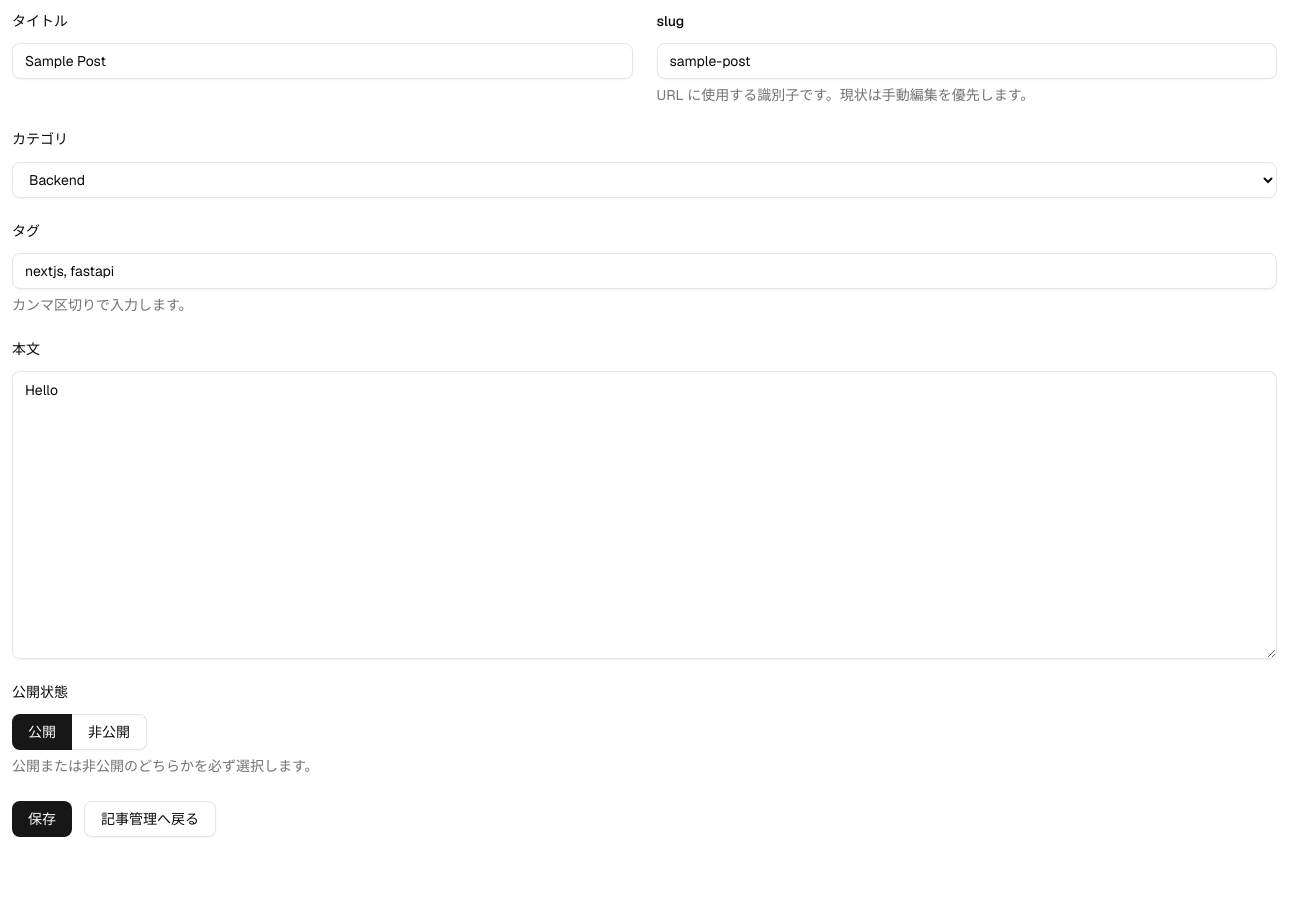
Test: ArticleEditorForm › 空の slug を送信しようとすると slug のエラーを表示する
Clear the field labelled "slug" at (967, 61), box [656,43,1277,79]
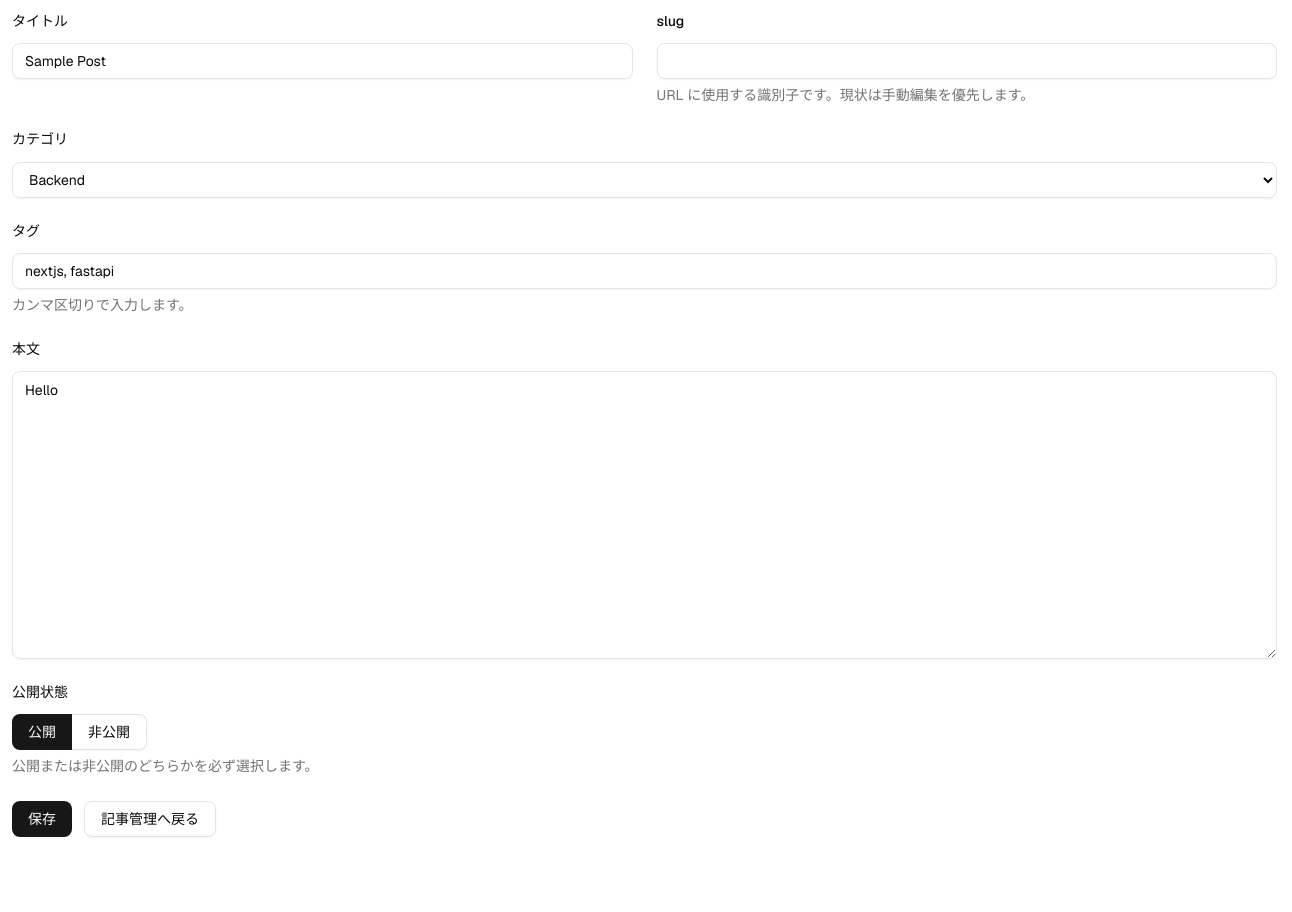
Click the button "保存" at (42, 819), box [12,801,72,837]
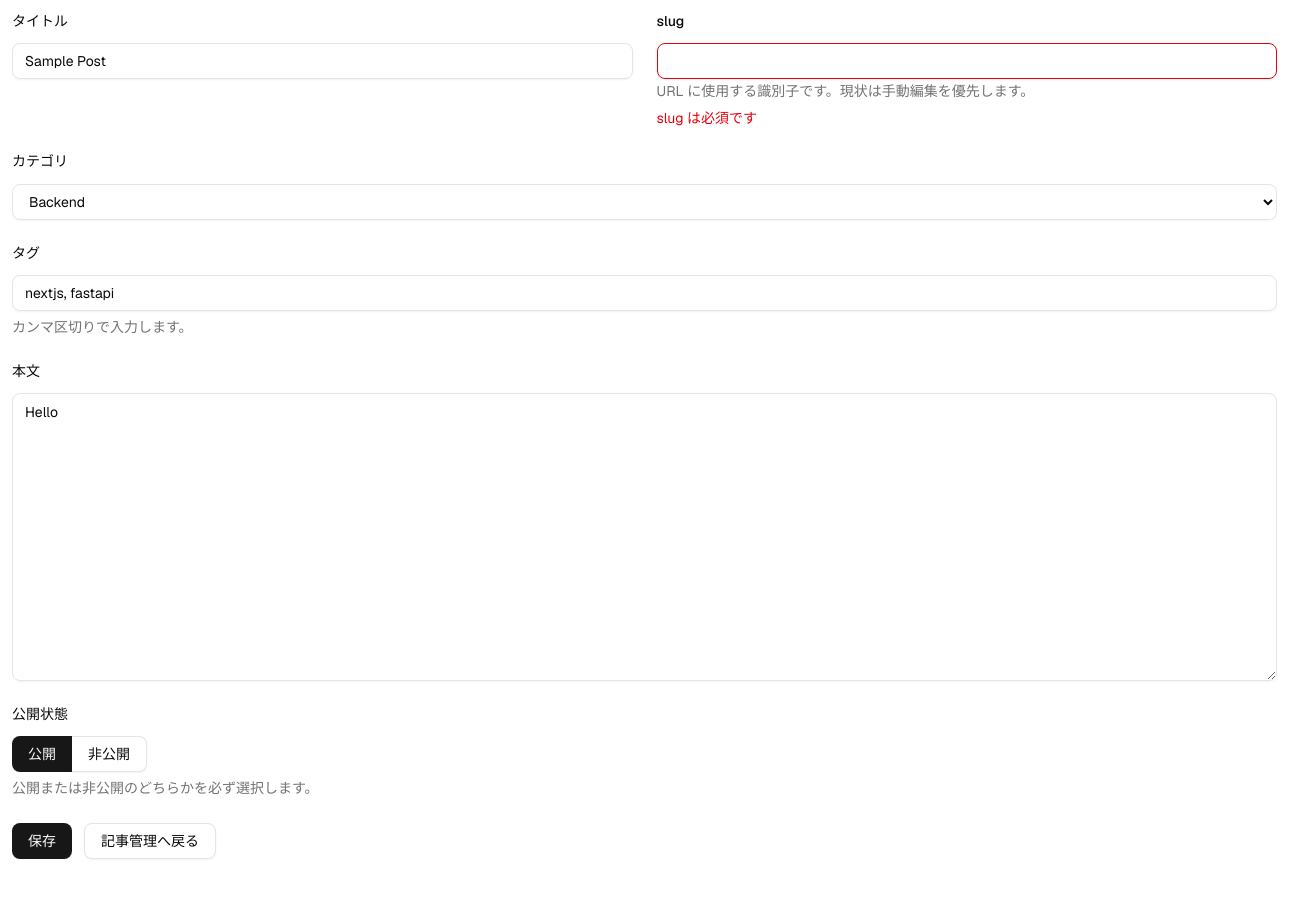
Now the text "slug は必須です" is shown, box [656,109,757,127]
